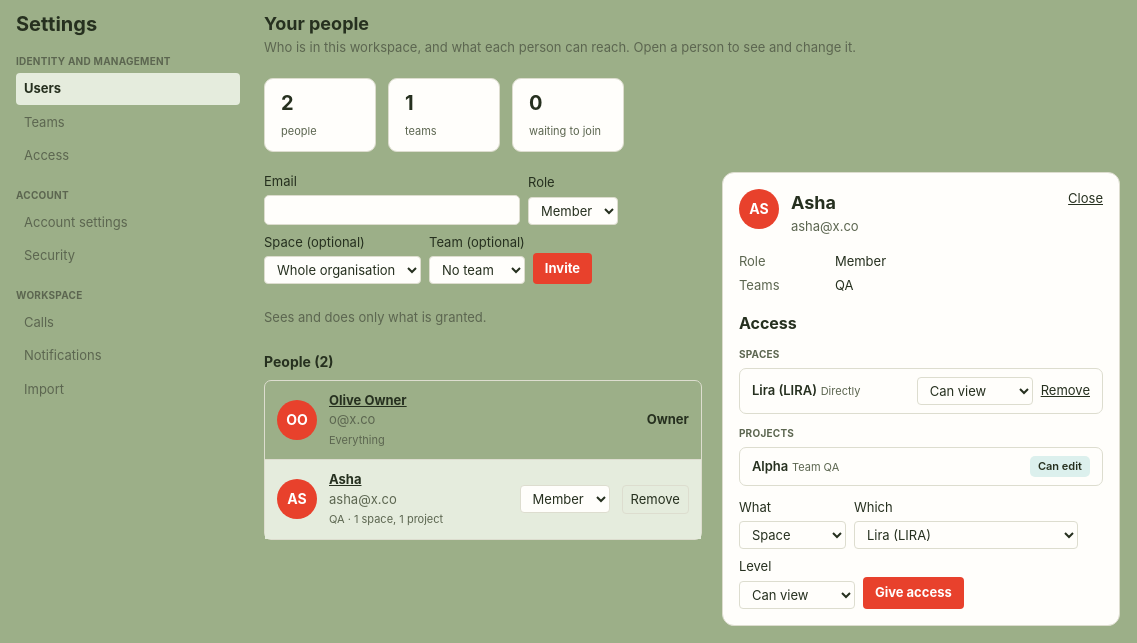
Test case: the Users page › closes the panel and returns to the list
Click the button "Close": (1086, 198) [1068,188,1103,208]
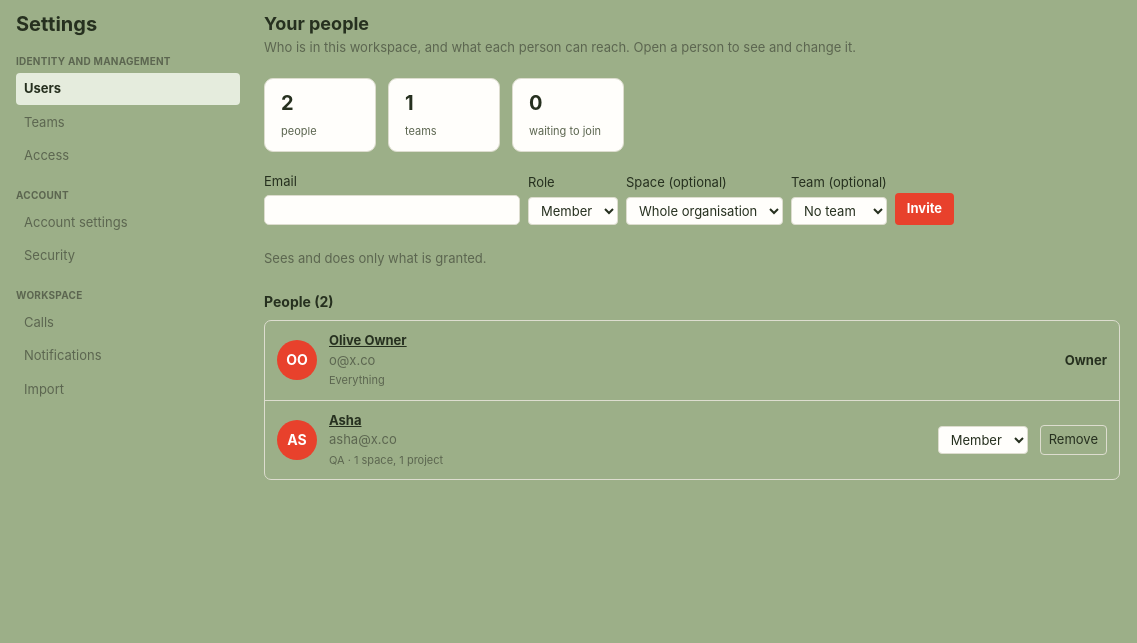
expect the element named "Person" is gone: met
